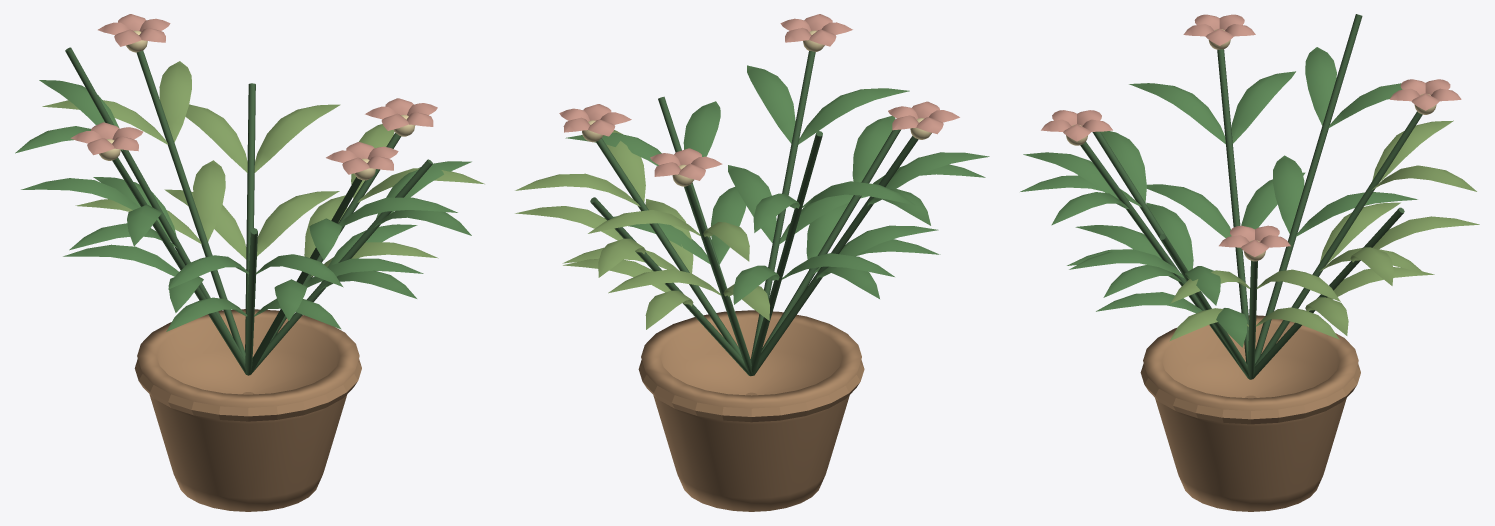
The model's file is SM_HH_Q3_FlowerPlant.fbx.
3 renders of one model, left to right at view 1: azimuth 30°, elevation 25°; view 2: azimuth 150°, elevation 25°; view 3: azimuth 270°, elevation 25°, orthographic. The views are drawn at different scales.
Visible parts, largest first — view 1: HH_Q3_FlowerPlant; view 2: HH_Q3_FlowerPlant; view 3: HH_Q3_FlowerPlant.
Boxes of the visible parts, left/top/right/bottom form: HH_Q3_FlowerPlant: left=15, top=14, right=484, bottom=511; HH_Q3_FlowerPlant: left=515, top=14, right=989, bottom=511; HH_Q3_FlowerPlant: left=1020, top=14, right=1479, bottom=511.
Bounding box in the file's own units: 0.7853 × 0.7817 × 0.7914.
